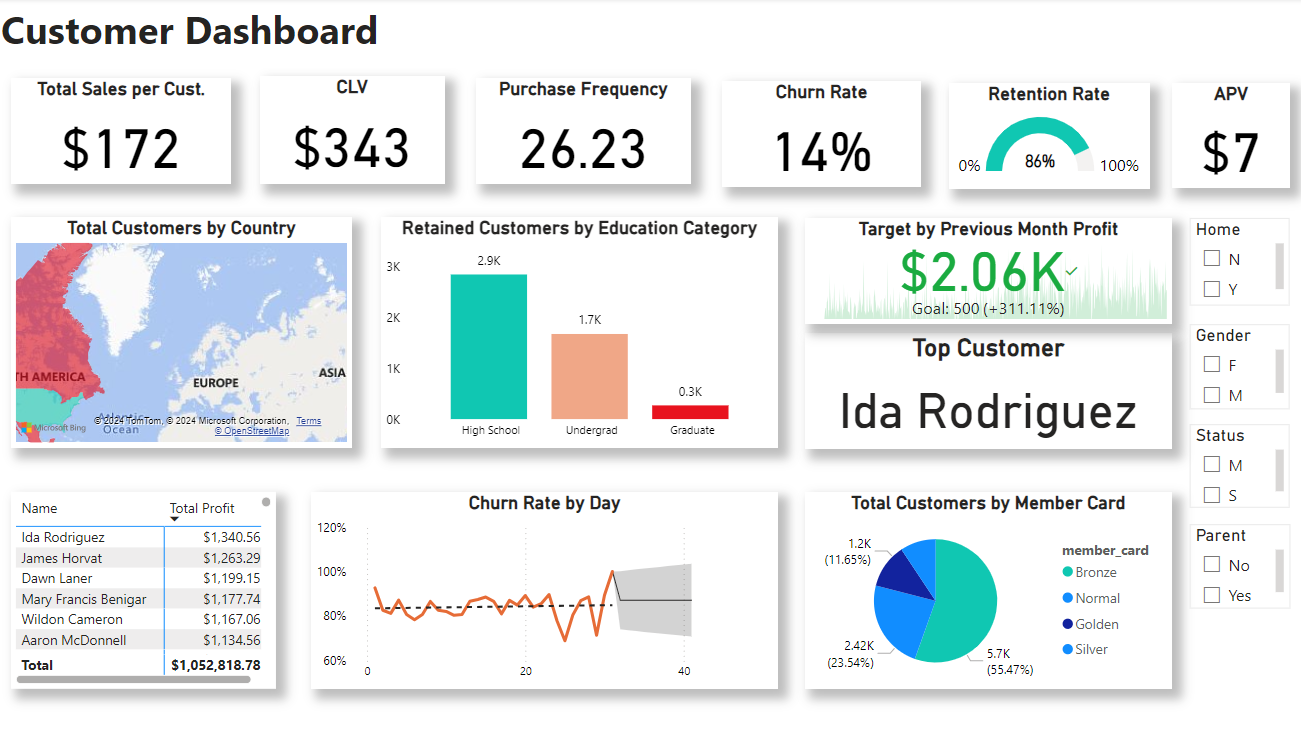

The dashboard page shown, as its layout file describes it:
{"tool":"powerbi","page":{"name":"Customer Analysis","canvas":[1280,720],"ordinal":1},"visuals":[{"type":"card","title":"Total Sales per Cust.","fields":{"Values":["Measures (2).Total Sales/Cust."]},"box":[14.5,78.2,215.1,103.9],"z":0},{"type":"card","title":"Purchase Frequency ","fields":{"Values":["Measures (2).Purchase Frequency per Cust."]},"box":[469.3,78.2,210.3,103.9],"z":1000},{"type":"card","title":"APV","fields":{"Values":["Measures (2).APV"]},"box":[1150.1,83.1,114.9,102.7],"z":2000},{"type":"card","title":"CLV","fields":{"Values":["Measures (2).CLV"]},"box":[257.8,75.7,180.9,106.3],"z":3000},{"type":"card","title":"Churn Rate","fields":{"Values":["Measures (2).Churn Rate"]},"box":[710.1,80.6,194.4,103.9],"z":4000},{"type":"gauge","fields":{"Y":["Measures (2).Retention Rate"]},"box":[931.3,83.1,196.8,103.9],"z":5000},{"type":"filledMap","title":"Total Customers by Country","fields":{"Category":["Customers.customer_country"]},"box":[14.7,213.9,333.7,226.1],"z":6000},{"type":"pieChart","title":"Total Customers by Member Card","fields":{"Y":["Customers.customer_acct_num"],"Category":["Customers.member_card"]},"box":[790.9,482.9,359.4,193.1],"z":7000},{"type":"kpi","title":"Target by Previous Month Profit","fields":{"TrendLine":["Calendar.date"],"Indicator":["Measures (2).Previous Month Profit"],"Goal":["Measures (2).Target Profit"]},"box":[790.9,215.1,359.4,103.9],"z":8000},{"type":"textbox","box":[0,0,1014.6,68.5],"z":9000},{"type":"pivotTable","fields":{"Rows":["Customers.Name "],"Values":["Measures (2).Total Profit"]},"box":[14.7,482.9,259.2,193.1],"z":10000},{"type":"lineChart","fields":{"Y":["Measures (2).Churn Rate"],"Category":["Calendar.date.Variation.Date Hierarchy.Year","Calendar.date.Variation.Date Hierarchy.Quarter","Calendar.date.Variation.Date Hierarchy.Month","Calendar.date.Variation.Date Hierarchy.Day"]},"box":[308,482.9,457.2,193.1],"z":11000},{"type":"slicer","title":"Home","fields":{"Values":["Customers.homeowner"]},"box":[1167.6,215.1,97.8,85.6],"z":12000},{"type":"slicer","title":"Gender","fields":{"Values":["Customers.gender"]},"box":[1167.6,319,97.8,83.1],"z":13000},{"type":"slicer","title":"Status","fields":{"Values":["Customers.marital_status"]},"box":[1167.6,416.8,97.8,81.9],"z":14000},{"type":"card","title":"Top Customer","fields":{"Values":["Customers.Name "]},"box":[790.9,327.6,359.4,113.7],"z":15000},{"type":"clusteredColumnChart","fields":{"Y":["Measures (2).Retained Customers"],"Category":["Customers.Education Category"]},"box":[376.5,213.9,388.7,226.1],"z":16000},{"type":"slicer","title":"Parent","fields":{"Values":["Customers.Parent"]},"box":[1167.2,515.1,98.1,82.2],"z":17000}]}

Visuals, with their boxes in screenshot pixels (x1, y1, x2, y2), scaled from the page's 1280x720 canvas onto the 1301x731 screenshot:
"Total Sales per Cust." card: box(15, 79, 233, 185)
"Purchase Frequency " card: box(477, 79, 691, 185)
"APV" card: box(1169, 84, 1286, 189)
"CLV" card: box(262, 77, 446, 185)
"Churn Rate" card: box(722, 82, 919, 187)
gauge - Measures (2).Retention Rate: box(947, 84, 1147, 190)
"Total Customers by Country" filledMap: box(15, 217, 354, 447)
"Total Customers by Member Card" pieChart: box(804, 490, 1169, 686)
"Target by Previous Month Profit" kpi: box(804, 218, 1169, 324)
textbox: box(0, 0, 1031, 70)
pivotTable - Customers.Name  x Measures (2).Total Profit: box(15, 490, 278, 686)
lineChart - Measures (2).Churn Rate x Calendar.date.Variation.Date Hierarchy.Year: box(313, 490, 778, 686)
"Home" slicer: box(1187, 218, 1286, 305)
"Gender" slicer: box(1187, 324, 1286, 408)
"Status" slicer: box(1187, 423, 1286, 506)
"Top Customer" card: box(804, 333, 1169, 448)
clusteredColumnChart - Measures (2).Retained Customers x Customers.Education Category: box(383, 217, 778, 447)
"Parent" slicer: box(1186, 523, 1286, 606)
